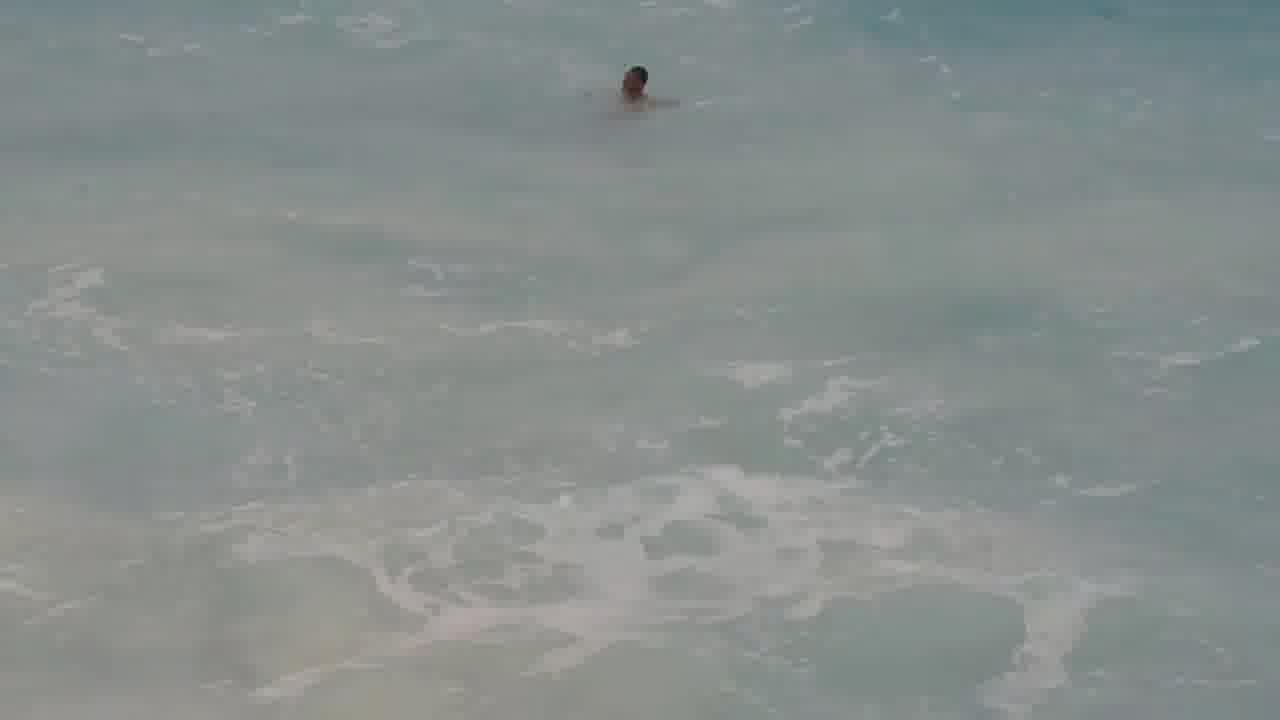human: (607, 55, 668, 117)
